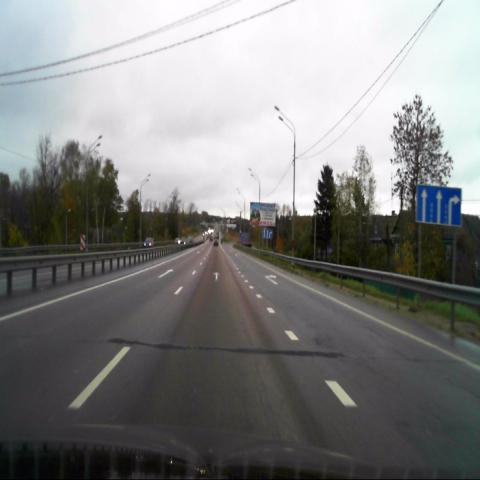5_15_1: (416, 184, 461, 227), (262, 228, 273, 239)
